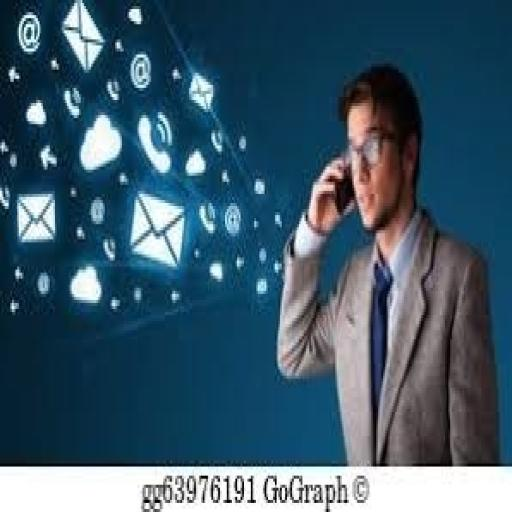calling: (273, 60, 500, 466)
